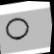no answer: (2, 14, 33, 43)
